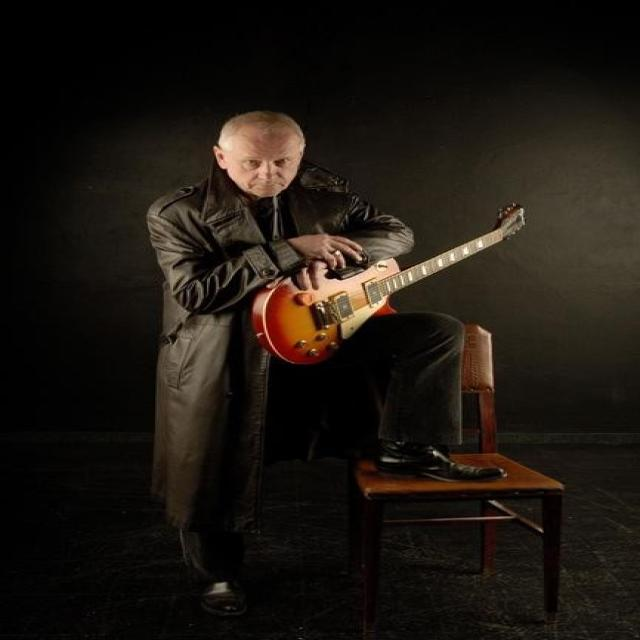guitar: (240, 205, 538, 366)
